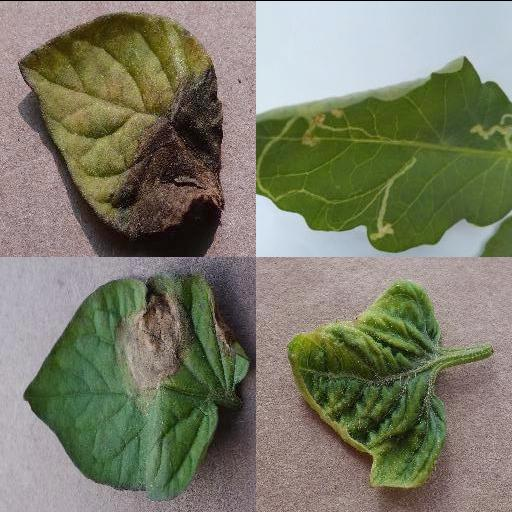Late Blight: (21, 269, 255, 501), (17, 10, 225, 236)
Leaf Miner: (256, 56, 512, 252)
Yellow Leaf Curl Virus: (285, 275, 449, 489)
